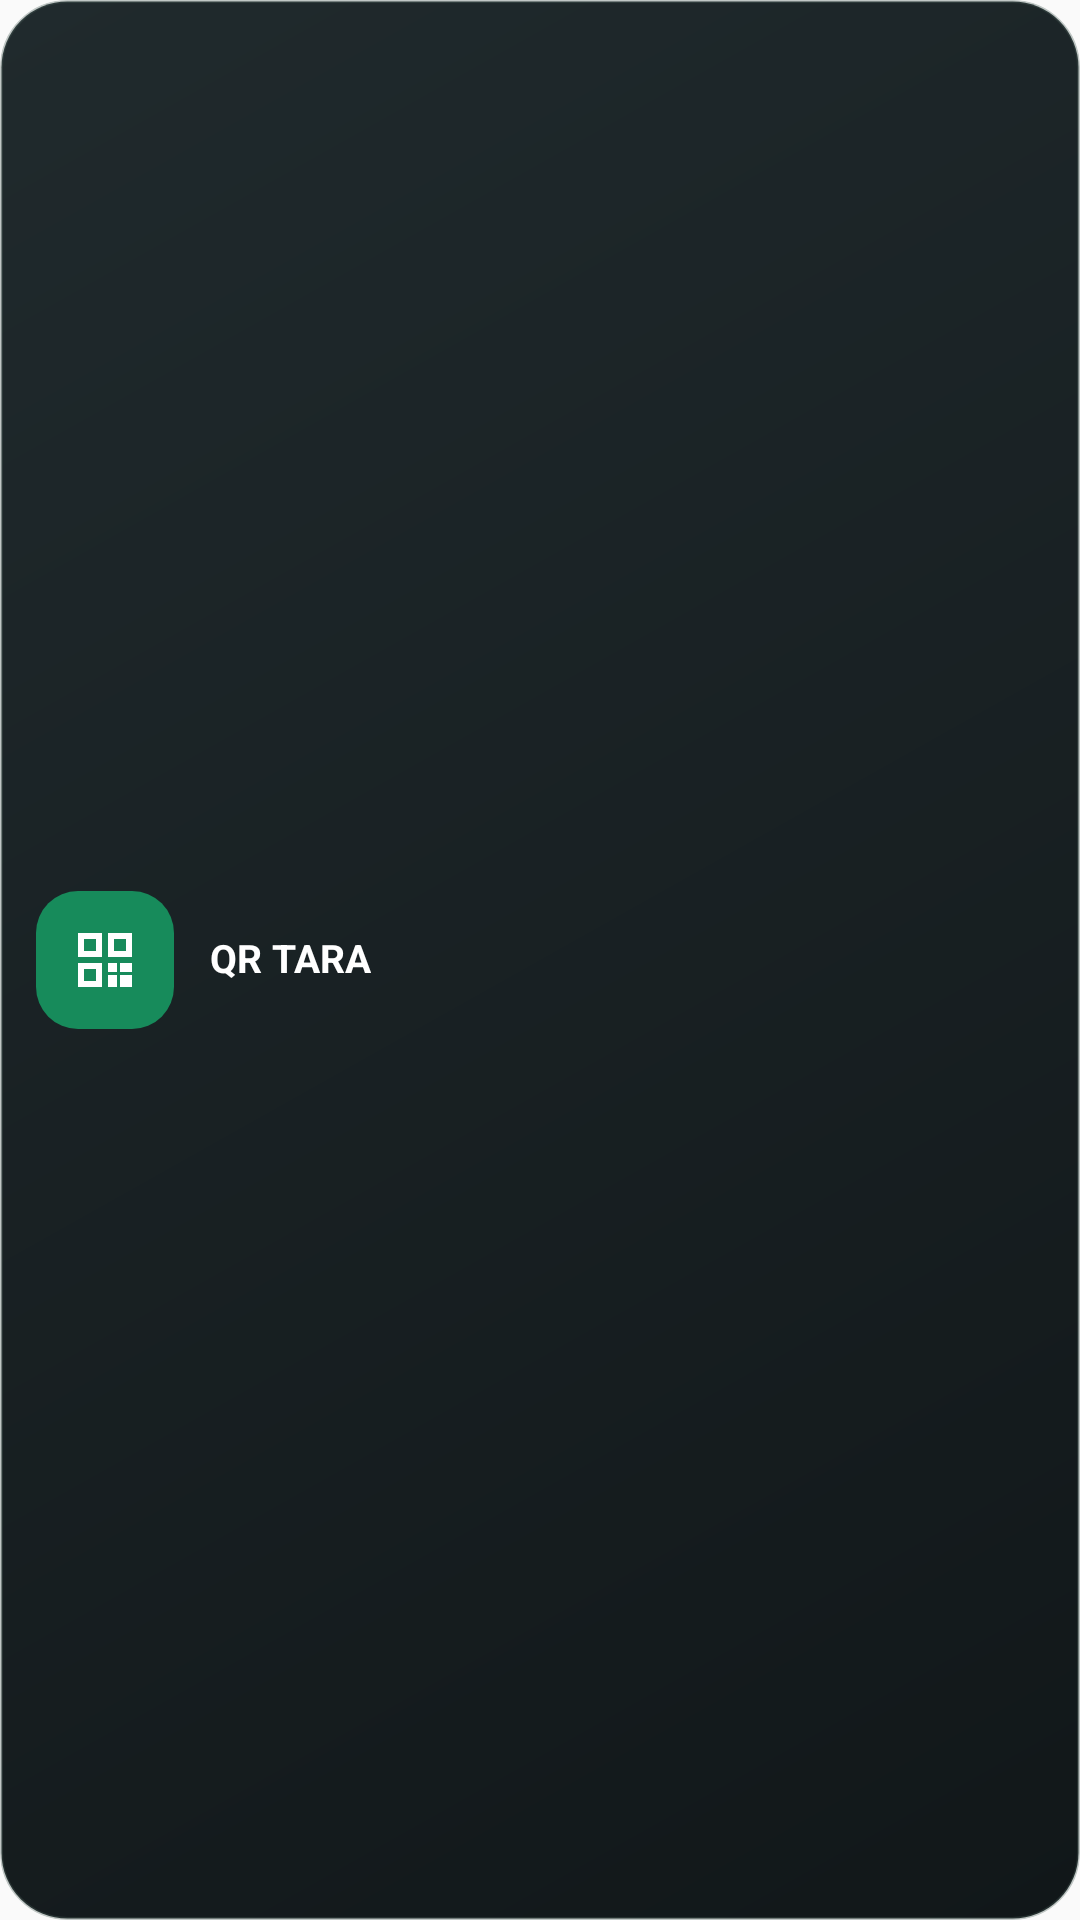

Icon click points for this 1080w x 1920h phone screenshot, format point (x, y):
Dokunarak QR kodunu tara: point (105, 960)
